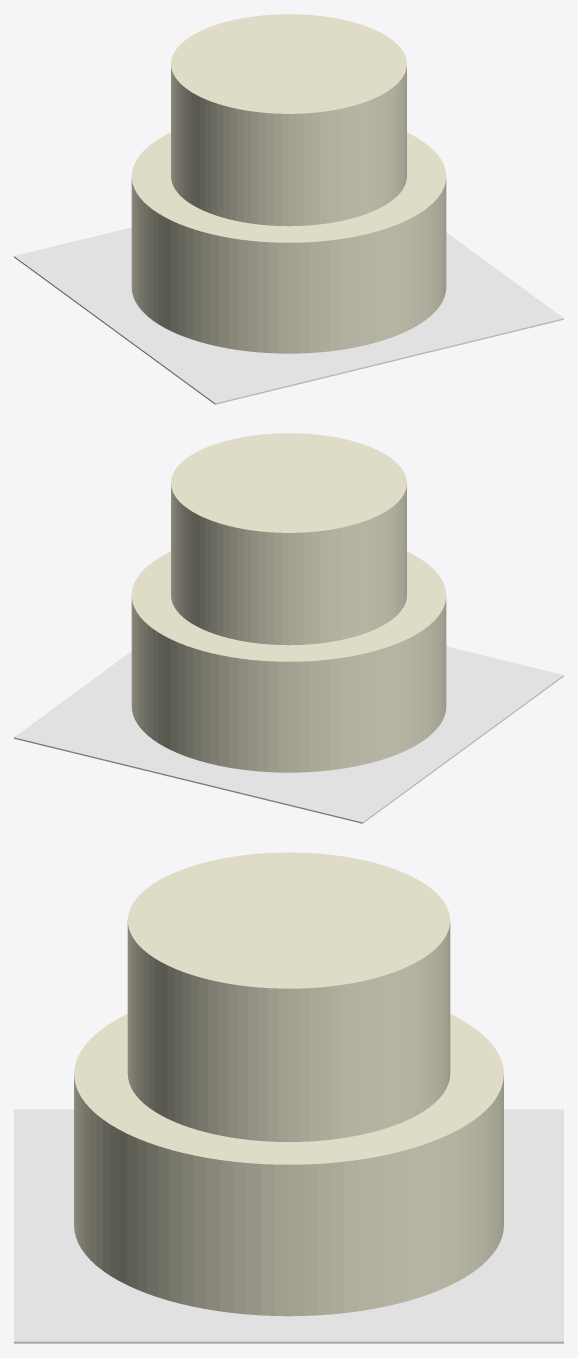
File: cake_tier2_8-6_layers2_v26.glb
3 views of the same model, one above another, from view 1: azimuth 30°, elevation 25°; view 2: azimuth 150°, elevation 25°; view 3: azimuth 270°, elevation 25° (orthographic). The views are drawn at different scales.
Visible parts, largest first — view 1: Tier1, Tier0, Board; view 2: Tier1, Tier0, Board; view 3: Tier1, Tier0, Board.
Part boxes in pixels (x1,y1,x2,y2): Tier1: [171, 14, 406, 226]; Tier0: [131, 132, 446, 353]; Board: [14, 227, 563, 404]; Tier1: [171, 433, 406, 645]; Tier0: [131, 551, 446, 772]; Board: [14, 646, 563, 823]; Tier1: [127, 852, 450, 1141]; Tier0: [74, 1014, 503, 1316]; Board: [14, 1109, 563, 1343].
Size of the model in its own units: 0.26 by 0.16 by 0.26.
